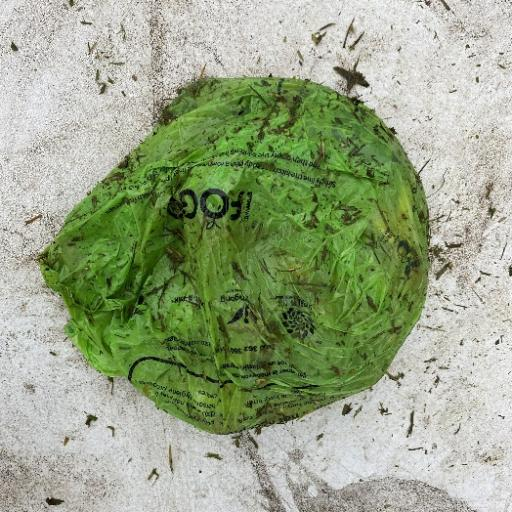Waste: (35, 74, 432, 436)
